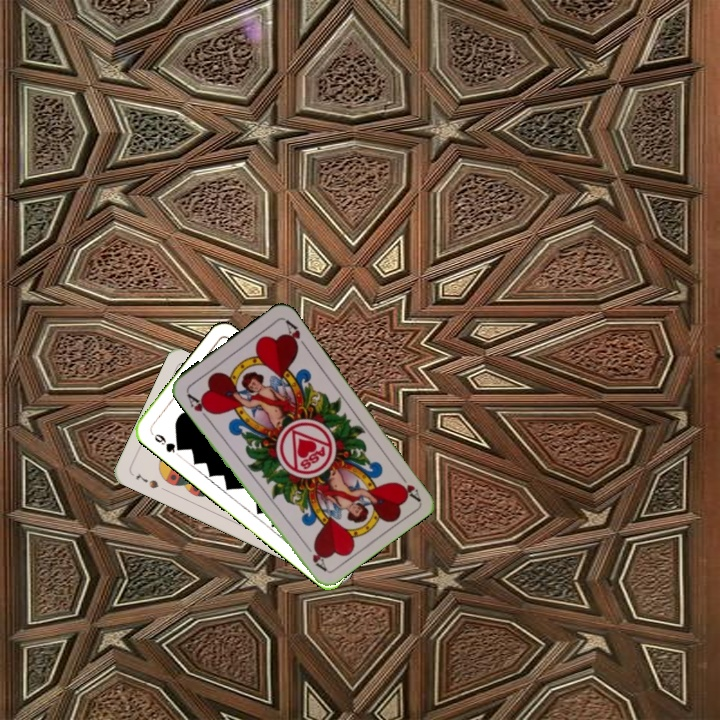G9: (150, 430, 185, 455)
HA: (183, 388, 216, 423), (392, 467, 423, 503)
S7: (132, 469, 161, 491)
